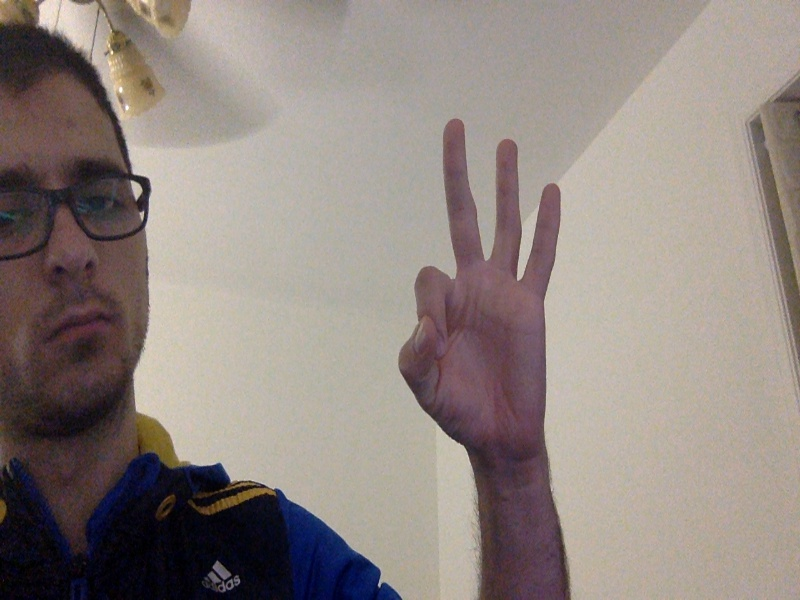3-hand: (401, 120, 566, 461)
